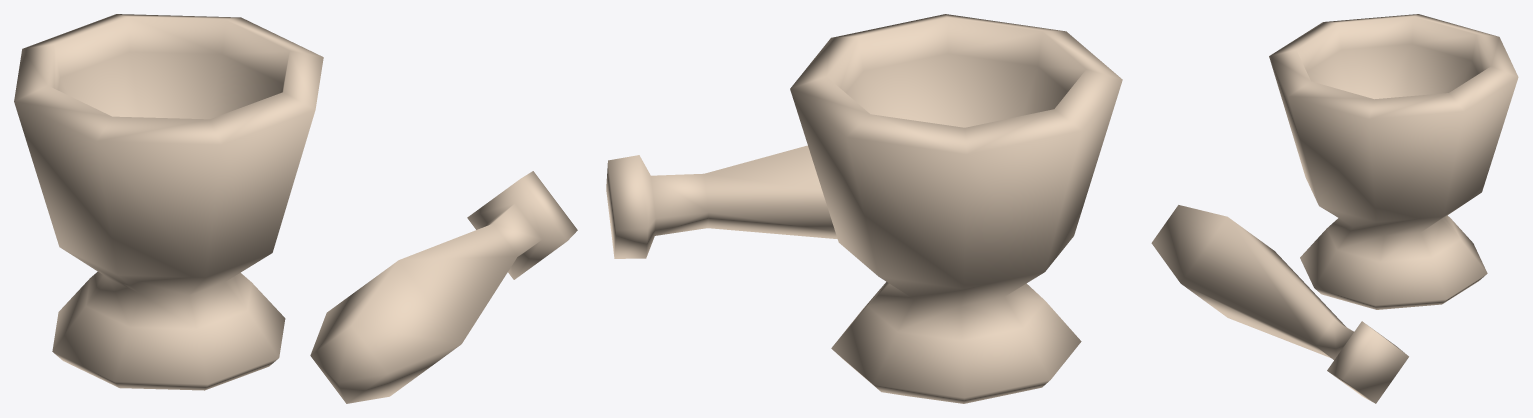
File: mortar and pestle.glb
3 views of the same model, side by side, from view 1: azimuth 30°, elevation 25°; view 2: azimuth 150°, elevation 25°; view 3: azimuth 270°, elevation 25° (orthographic). The views are drawn at different scales.
Visible parts, largest first — view 1: mortar_pestle.001, mortar_pestle.002; view 2: mortar_pestle.001, mortar_pestle.002; view 3: mortar_pestle.001, mortar_pestle.002.
Boxes of the visible parts, left/top/right/bottom form: mortar_pestle.001: left=14, top=14, right=323, bottom=390; mortar_pestle.002: left=310, top=171, right=577, bottom=403; mortar_pestle.001: left=790, top=14, right=1122, bottom=403; mortar_pestle.002: left=606, top=145, right=837, bottom=258; mortar_pestle.001: left=1269, top=14, right=1518, bottom=309; mortar_pestle.002: left=1151, top=205, right=1408, bottom=403.
Size of the model in its own units: 0.4252 by 0.2196 by 0.3372.
